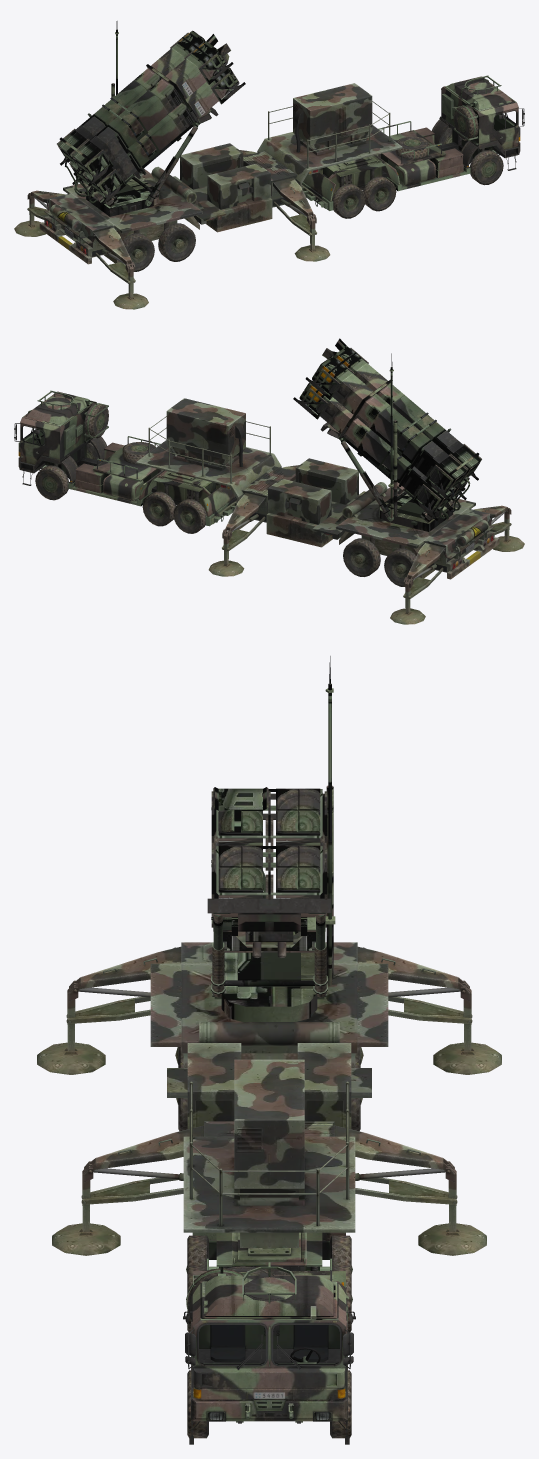
File: patriot.glb
3 renders of one model, top to bottom at view 1: azimuth 30°, elevation 25°; view 2: azimuth 150°, elevation 25°; view 3: azimuth 270°, elevation 25°, orthographic. The views are drawn at different scales.
Visible parts, largest first — view 1: Object_4, Object_2; view 2: Object_4, Object_2; view 3: Object_2, Object_4.
Boxes of the visible parts, x1,y1,x2,y2 form: Object_4: (57,21,524,218); Object_2: (14,83,402,309); Object_4: (14,338,481,533); Object_2: (136,398,524,624); Object_2: (37,931,501,1255); Object_4: (183,656,355,1444).
Bounding box in the file's own units: 22.57 × 11.07 × 10.24.
2 materials, 2 textured.
